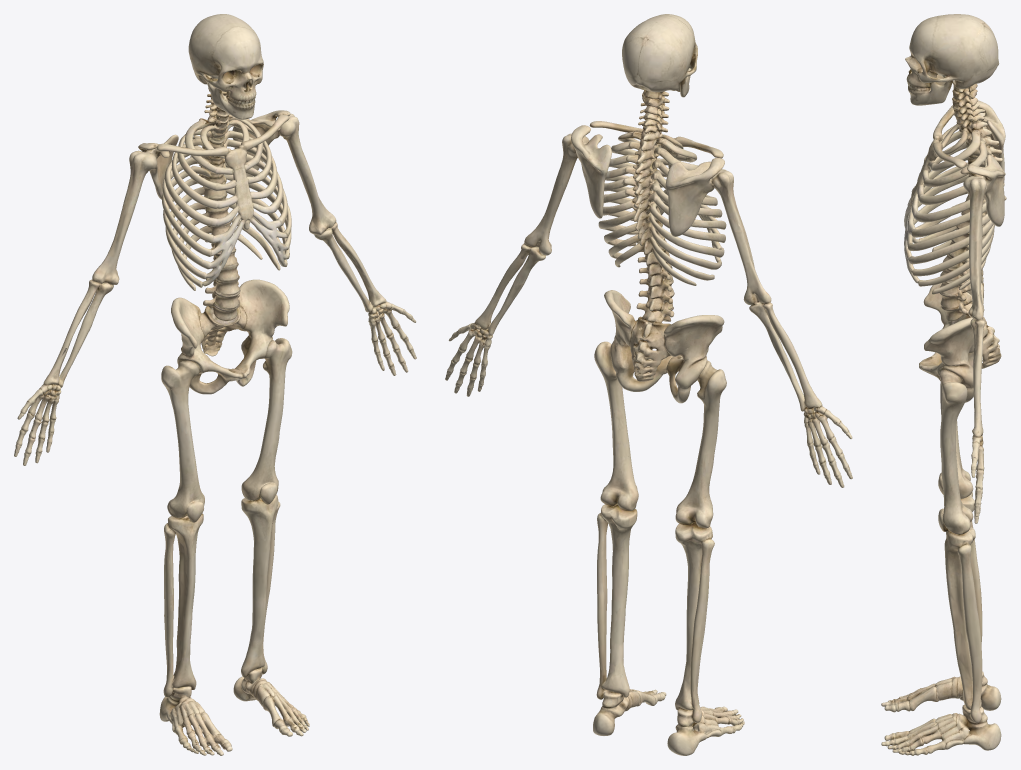
Rendered from skeleton.glb.
3 views of the same model, side by side, from view 1: azimuth 30°, elevation 25°; view 2: azimuth 150°, elevation 25°; view 3: azimuth 270°, elevation 25° (orthographic).
Visible parts, largest first — view 1: human-skeleton; view 2: human-skeleton; view 3: human-skeleton.
Boxes of the visible parts, box(x1,y1,x2,y2) form: human-skeleton: box(14, 14, 416, 755); human-skeleton: box(445, 14, 852, 755); human-skeleton: box(881, 14, 1006, 755).
Bounding box in the file's own units: 1.05 × 1.75 × 0.2794.
1 material, 1 textured.
